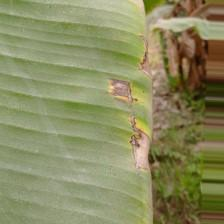cordana: (0, 0, 152, 224)
